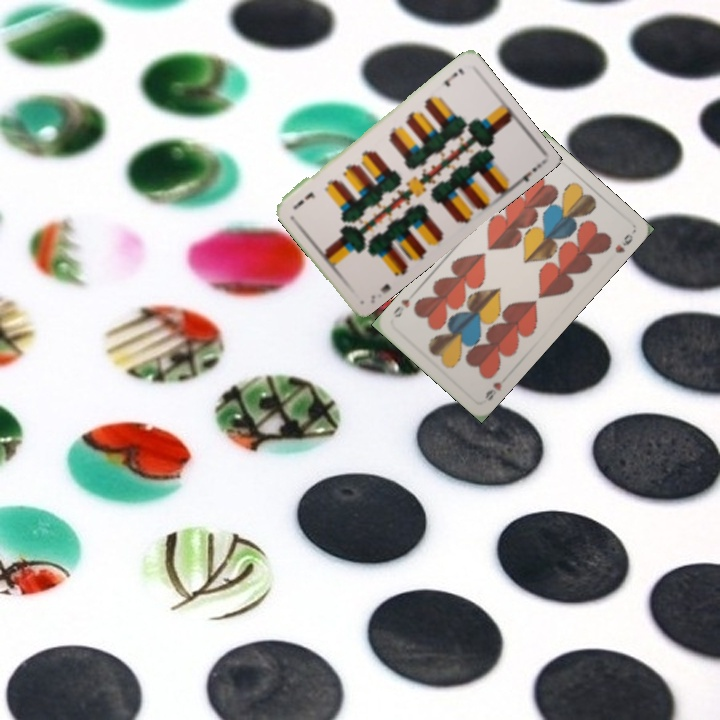E7: (366, 279, 393, 306), (440, 64, 467, 89)
H9: (481, 378, 504, 403)
